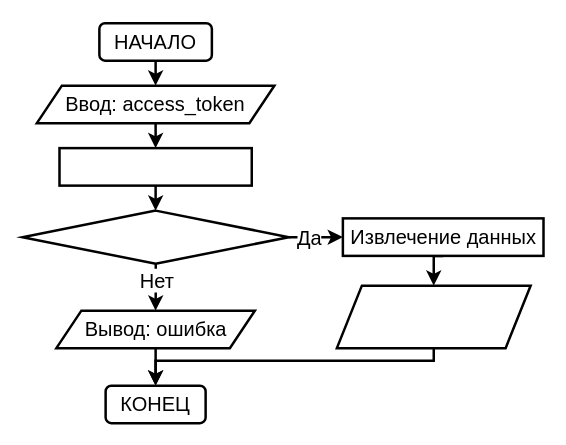
Image size: 566x445. Some labels were removed from this diagram. The centre of each missing label's shape, as x and y in pixels:
Вывод: данные пользователя: point 433,316
Подпись корректна: point 155,236
Проверка подписи: point 155,166
